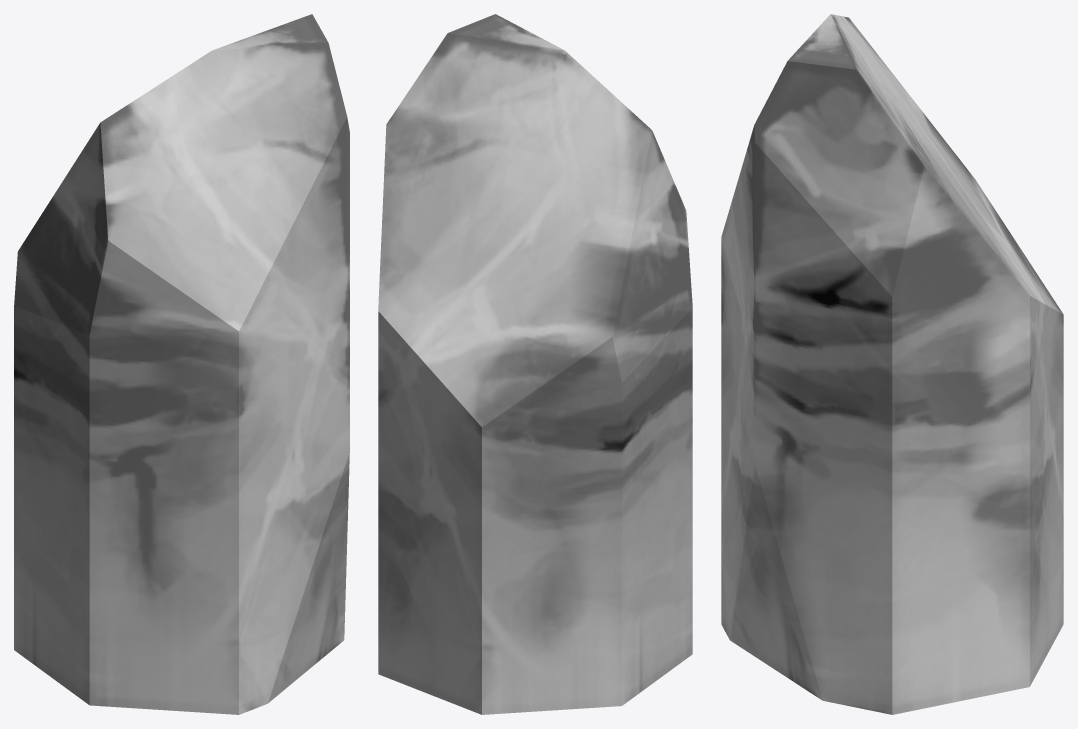
The model's file is Crystal03.fbx.
3 views of the same model, side by side, from view 1: azimuth 30°, elevation 25°; view 2: azimuth 150°, elevation 25°; view 3: azimuth 270°, elevation 25° (orthographic). The views are drawn at different scales.
Visible parts, largest first — view 1: Crystal03; view 2: Crystal03; view 3: Crystal03.
Part boxes in pixels (x1,y1,x2,y2): Crystal03: [14, 14, 349, 714]; Crystal03: [378, 14, 692, 714]; Crystal03: [721, 14, 1063, 714].
Size of the model in its own units: 0.8615 by 1.77 by 0.8836.
